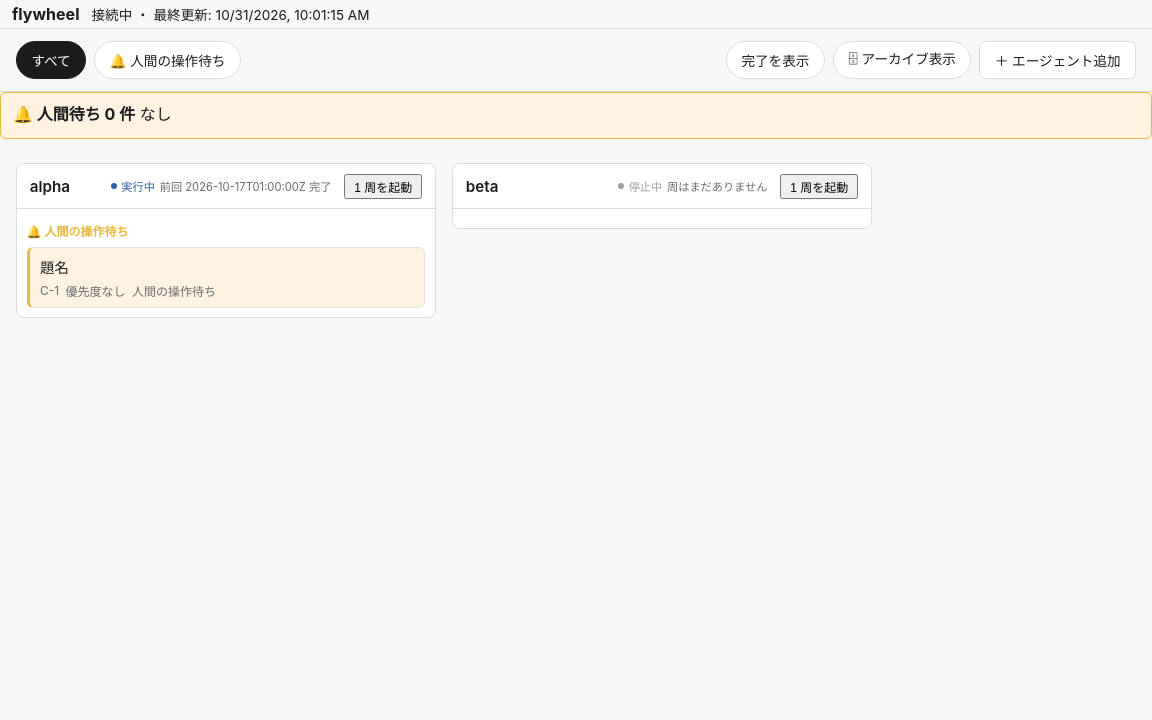
Scenario: AC-209: 状態の文字列が承認待ちでも next_human_actions に承認のコードが無ければボタンも ① も無い
The image size is (1152, 720).
Click the button "題名 C-1 優先度なし 人間の操作待ち" at (96, 291), box [30,248,424,307]
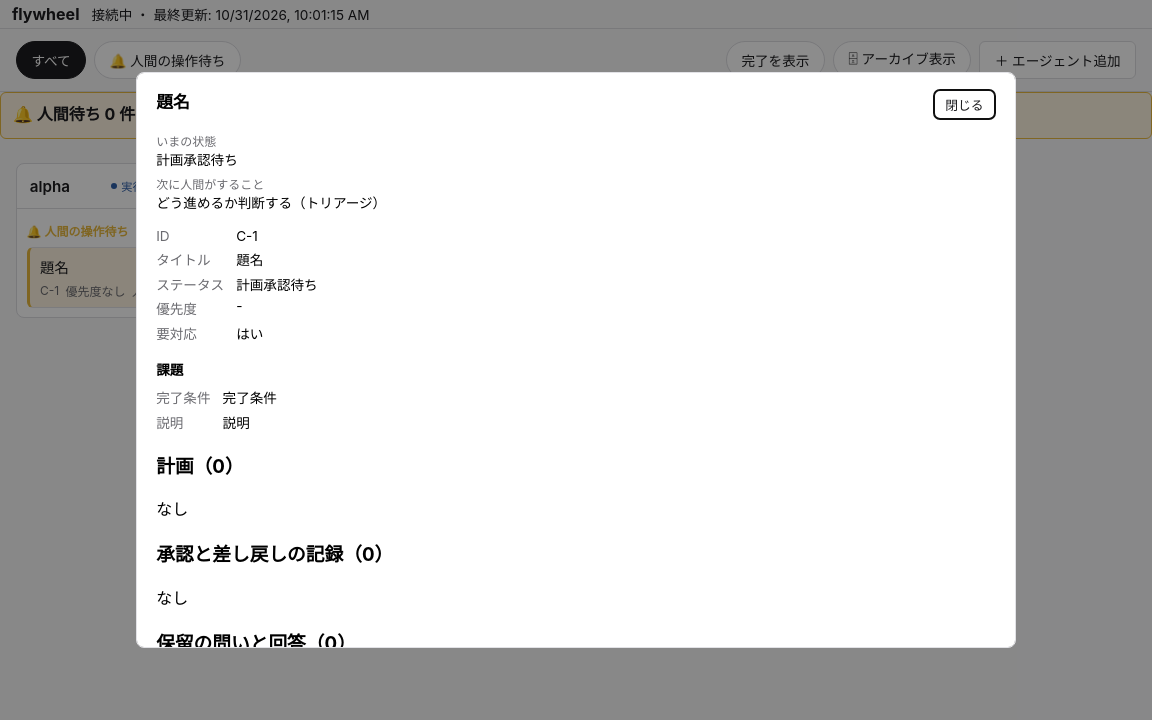
Result: the heading "計画（0）" is shown at [156,455,244,478]
